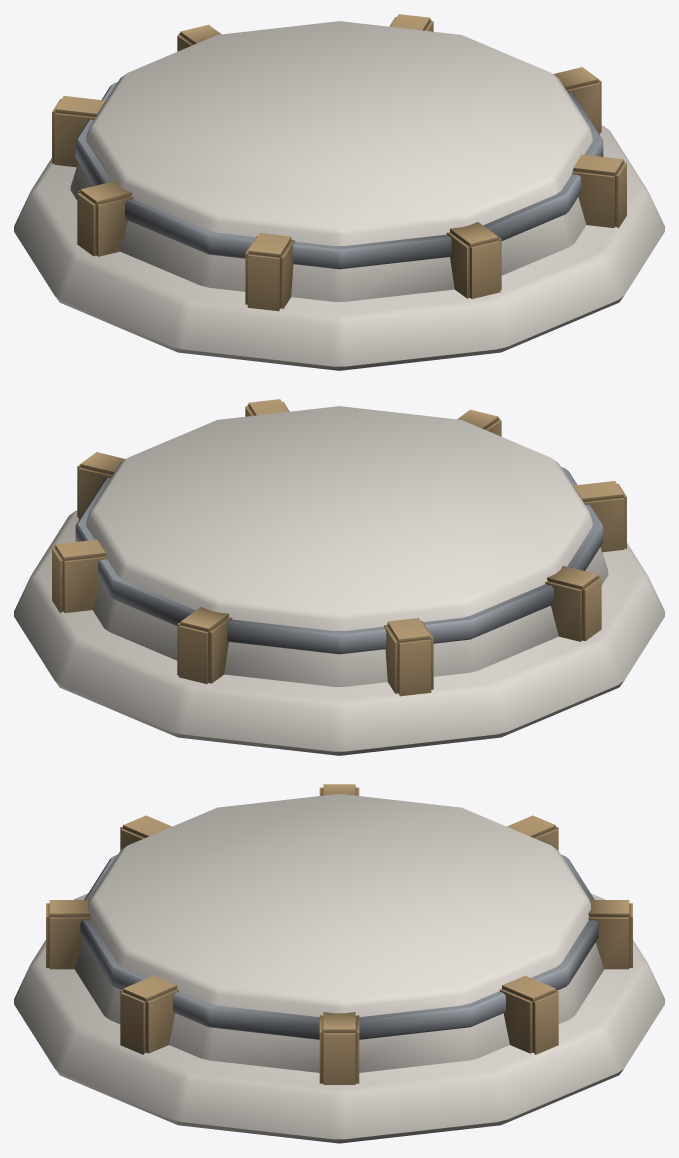
The model's file is rune_mortar_base_lod0.glb.
3 views of the same model, one above another, from view 1: azimuth 30°, elevation 25°; view 2: azimuth 150°, elevation 25°; view 3: azimuth 270°, elevation 25° (orthographic).
Visible parts, largest first — view 1: rune_mortar_base; view 2: rune_mortar_base; view 3: rune_mortar_base.
Boxes of the visible parts, x1,y1,x2,y2 form: rune_mortar_base: [14, 14, 664, 370]; rune_mortar_base: [14, 399, 664, 755]; rune_mortar_base: [14, 784, 664, 1143].
Size of the model in its own units: 3.59 by 0.67 by 3.59.
